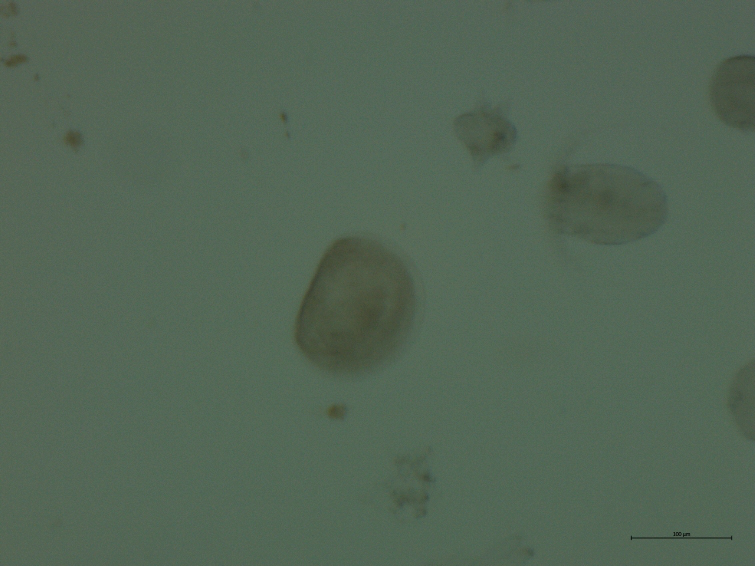oyster: (281, 218, 440, 396)
